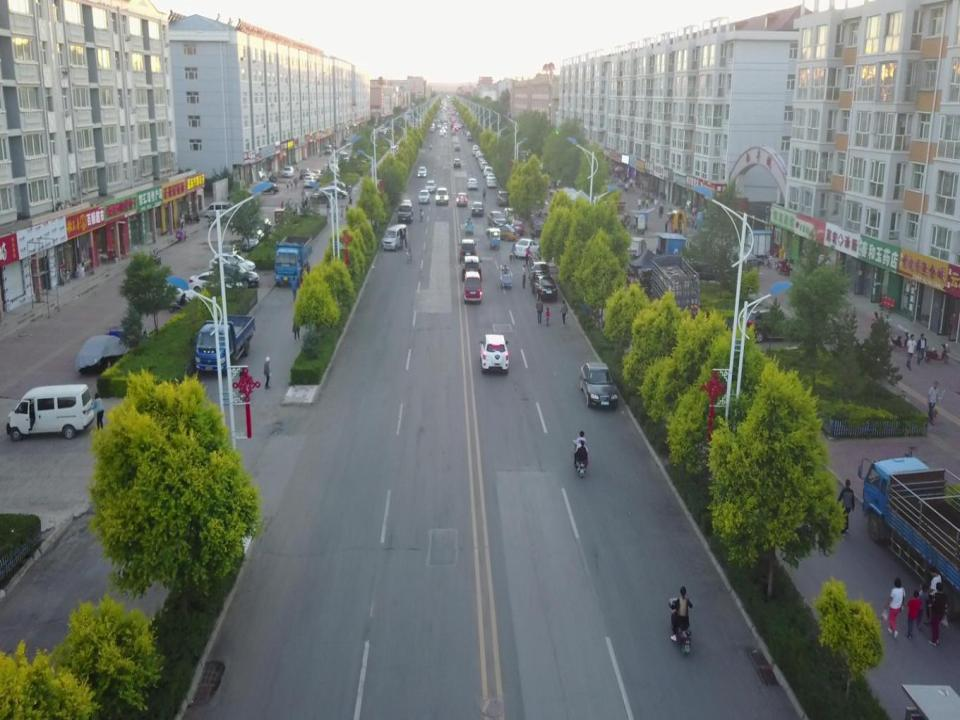car: (580, 360, 620, 412), (741, 306, 794, 342), (190, 270, 243, 298), (478, 332, 510, 373), (210, 264, 260, 289), (210, 253, 257, 278), (485, 222, 519, 242), (533, 274, 558, 301), (460, 255, 483, 281), (514, 239, 541, 257), (528, 261, 550, 283), (459, 238, 477, 262), (310, 190, 333, 207), (255, 182, 279, 197), (486, 210, 506, 228), (321, 187, 347, 200), (397, 204, 413, 223), (322, 182, 346, 194), (510, 218, 524, 236), (496, 190, 510, 206), (436, 188, 448, 205), (471, 202, 484, 217), (456, 192, 468, 207), (418, 189, 430, 204), (505, 209, 516, 223), (304, 176, 316, 188), (310, 169, 322, 181), (467, 178, 478, 191), (425, 181, 436, 193), (300, 168, 311, 180), (484, 166, 494, 178), (417, 166, 427, 178), (283, 167, 294, 177), (486, 177, 496, 187), (402, 199, 410, 211), (486, 173, 496, 181), (453, 159, 461, 169), (480, 162, 488, 170), (479, 159, 486, 168), (454, 144, 460, 152), (476, 152, 482, 159), (472, 149, 478, 155)
truck: (857, 451, 955, 629), (196, 314, 255, 374), (648, 254, 700, 322), (275, 234, 311, 286)
van: (7, 383, 94, 441), (381, 224, 408, 251), (204, 202, 236, 220), (463, 272, 482, 302), (337, 150, 349, 164), (477, 153, 484, 164), (324, 145, 332, 154), (473, 146, 479, 151)
